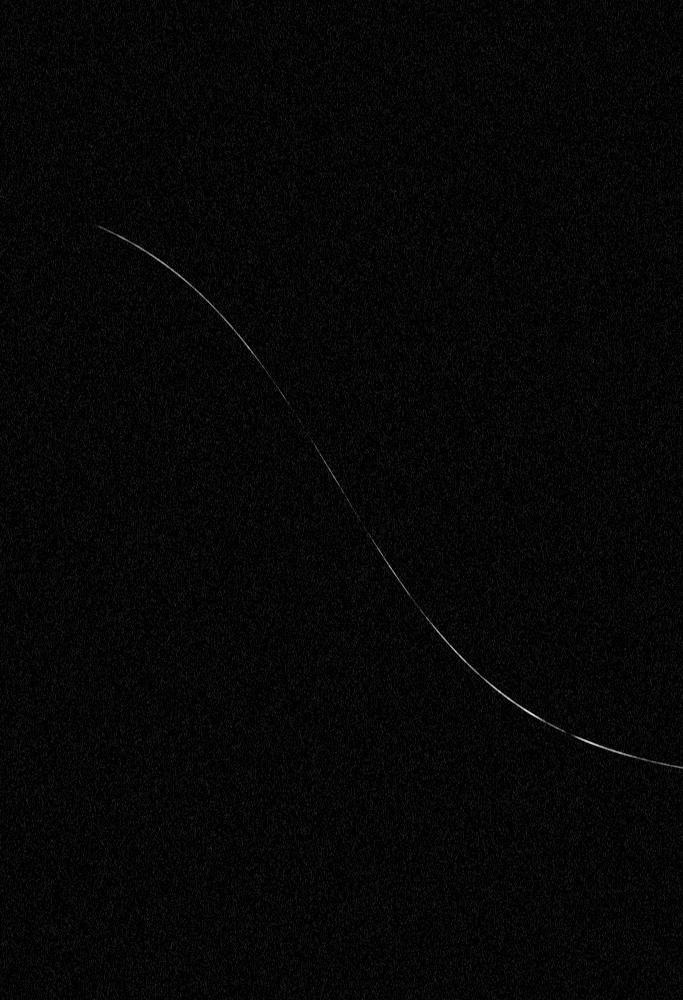signal: (0, 0, 682, 999)
